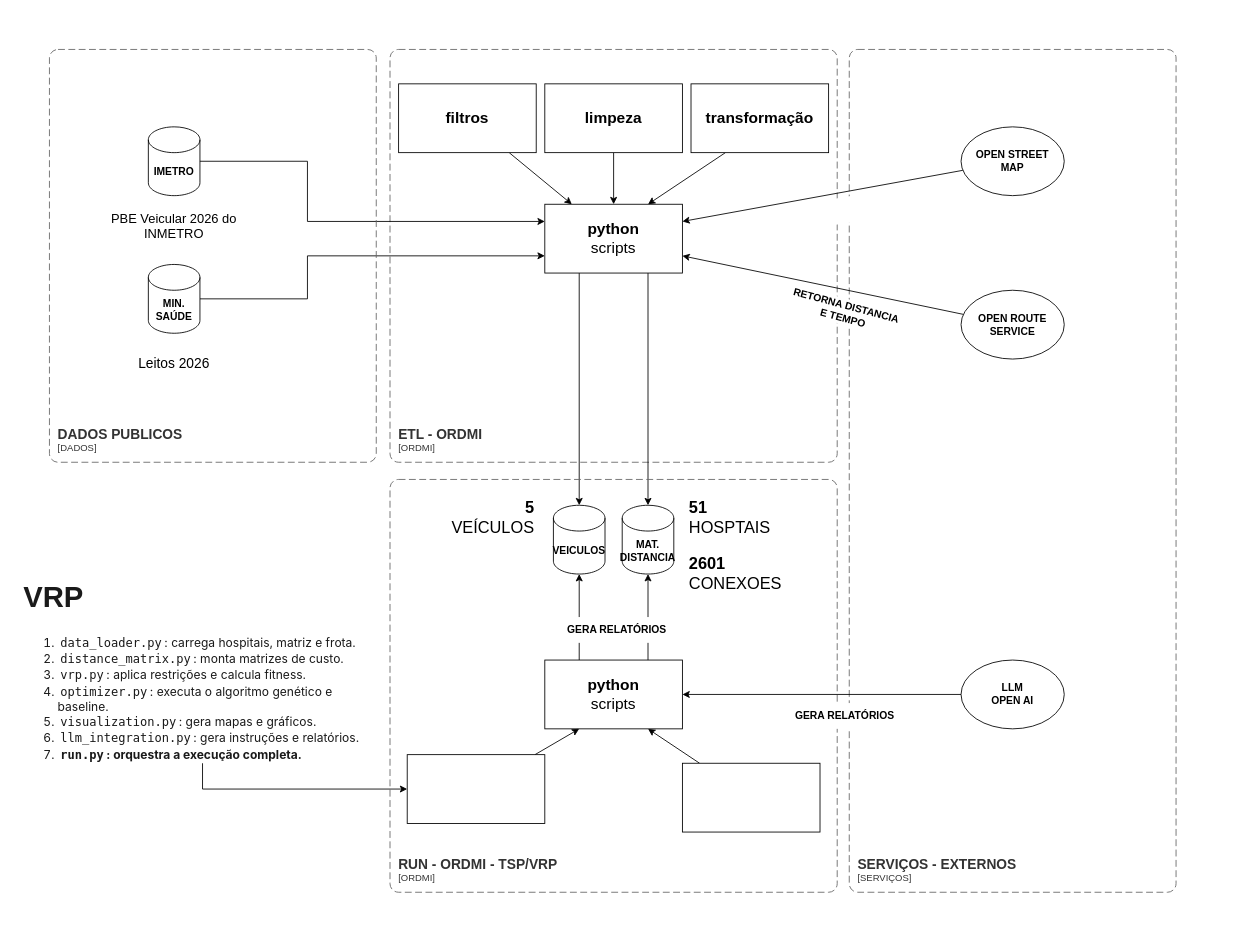
The diagram is 1233 pixels wide and 941 high, and some of its shapes have lost their labels. Here are the shapes that lost their labels. From the top down, the centre of each, then its label:
the point at 853,208: RETORNA LAT e LONG
the point at 475,788: VRP
the point at 751,797: TSP
